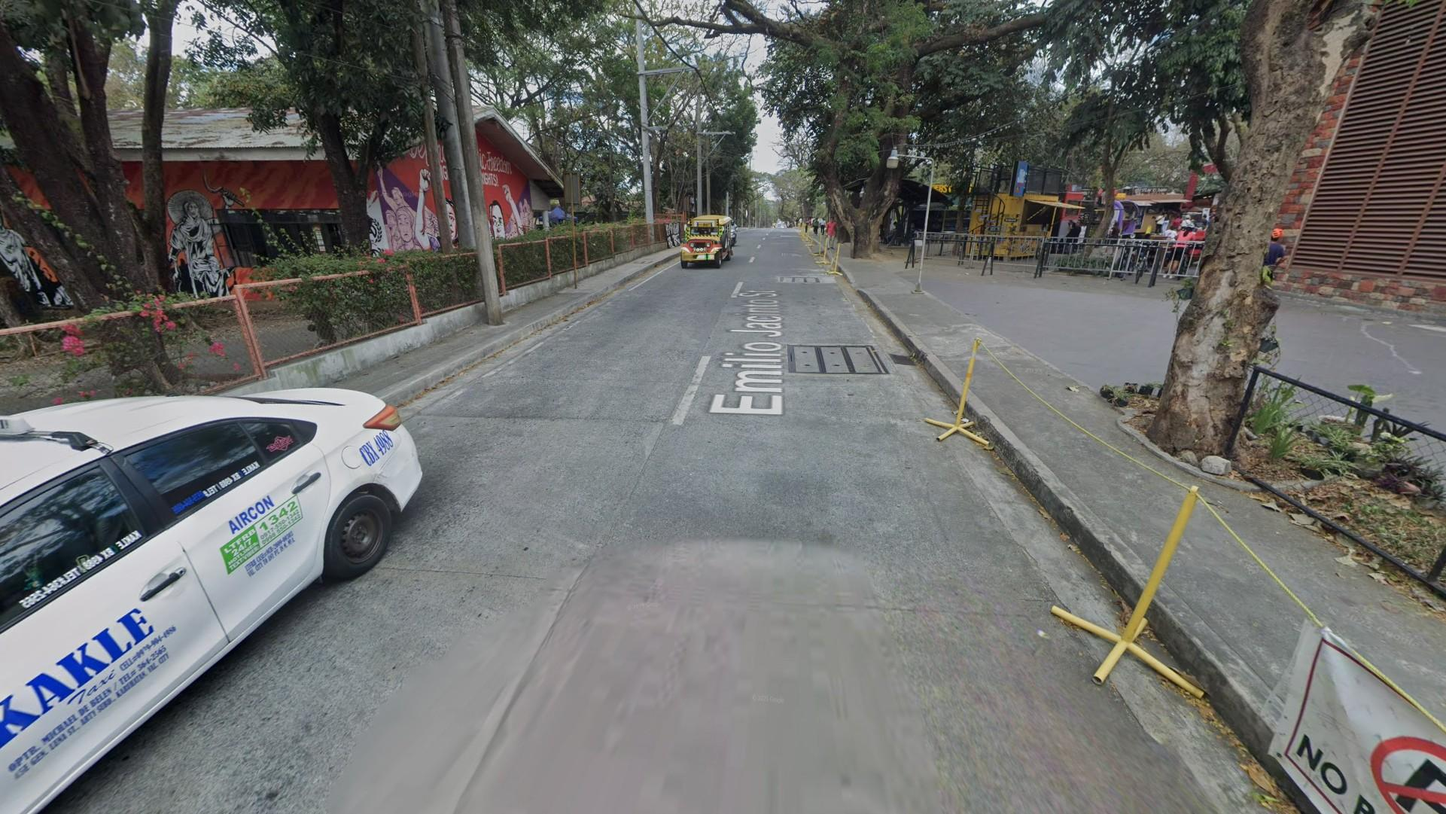pedestrian: (1249, 227, 1287, 307), (1163, 226, 1196, 279), (1103, 220, 1120, 257), (1065, 218, 1081, 256), (1181, 214, 1195, 246), (826, 216, 837, 251), (1171, 212, 1183, 242), (1155, 210, 1165, 236), (813, 217, 819, 236), (820, 217, 826, 235), (799, 216, 803, 228), (795, 216, 799, 227)
